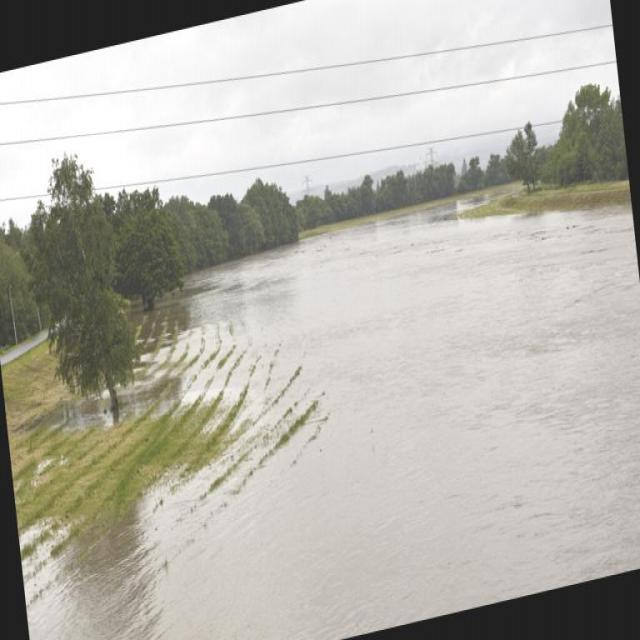flood: (168, 154, 639, 639)
